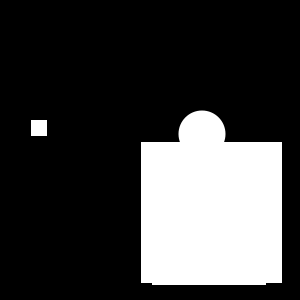circle: (141, 142, 282, 283), (152, 171, 266, 285), (31, 120, 47, 136)
rectangle: (178, 110, 226, 158)
